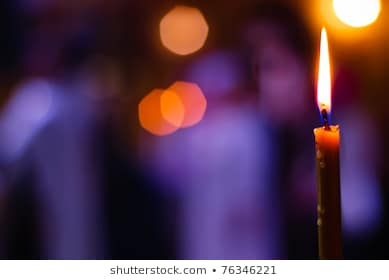Fire: (314, 23, 335, 121)
